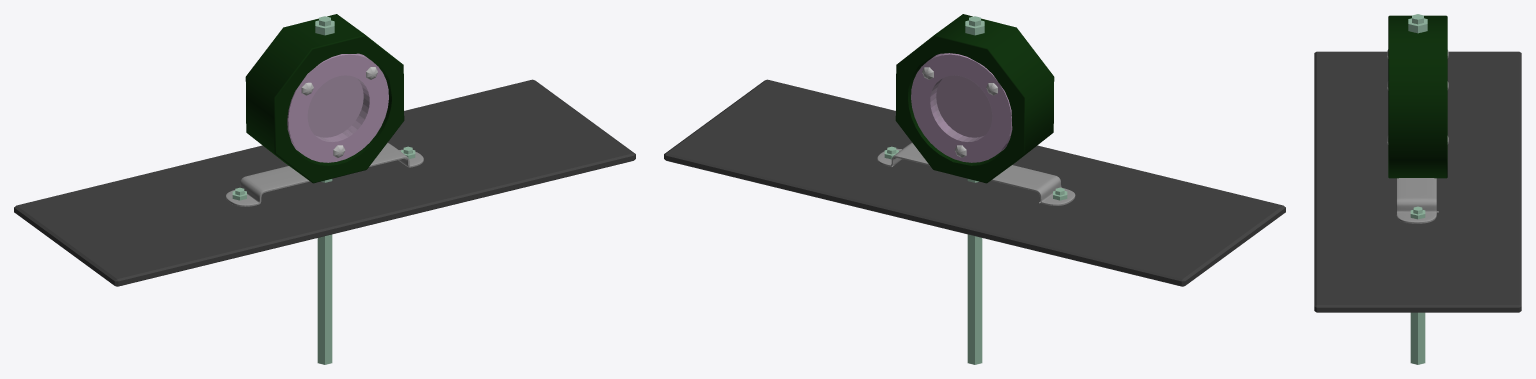
File: jiance.DAE
3 views of the same model, side by side, from view 1: azimuth 30°, elevation 25°; view 2: azimuth 150°, elevation 25°; view 3: azimuth 270°, elevation 25° (orthographic).
Visible parts, largest first — view 1: ____; view 2: ____; view 3: ____.
Boxes of the visible parts, x1,y1,x2,y2 form: ____: [14, 14, 635, 364]; ____: [664, 14, 1285, 364]; ____: [1314, 14, 1521, 364].
Bounding box in the file's own units: 147 × 50.11 × 92.02.
